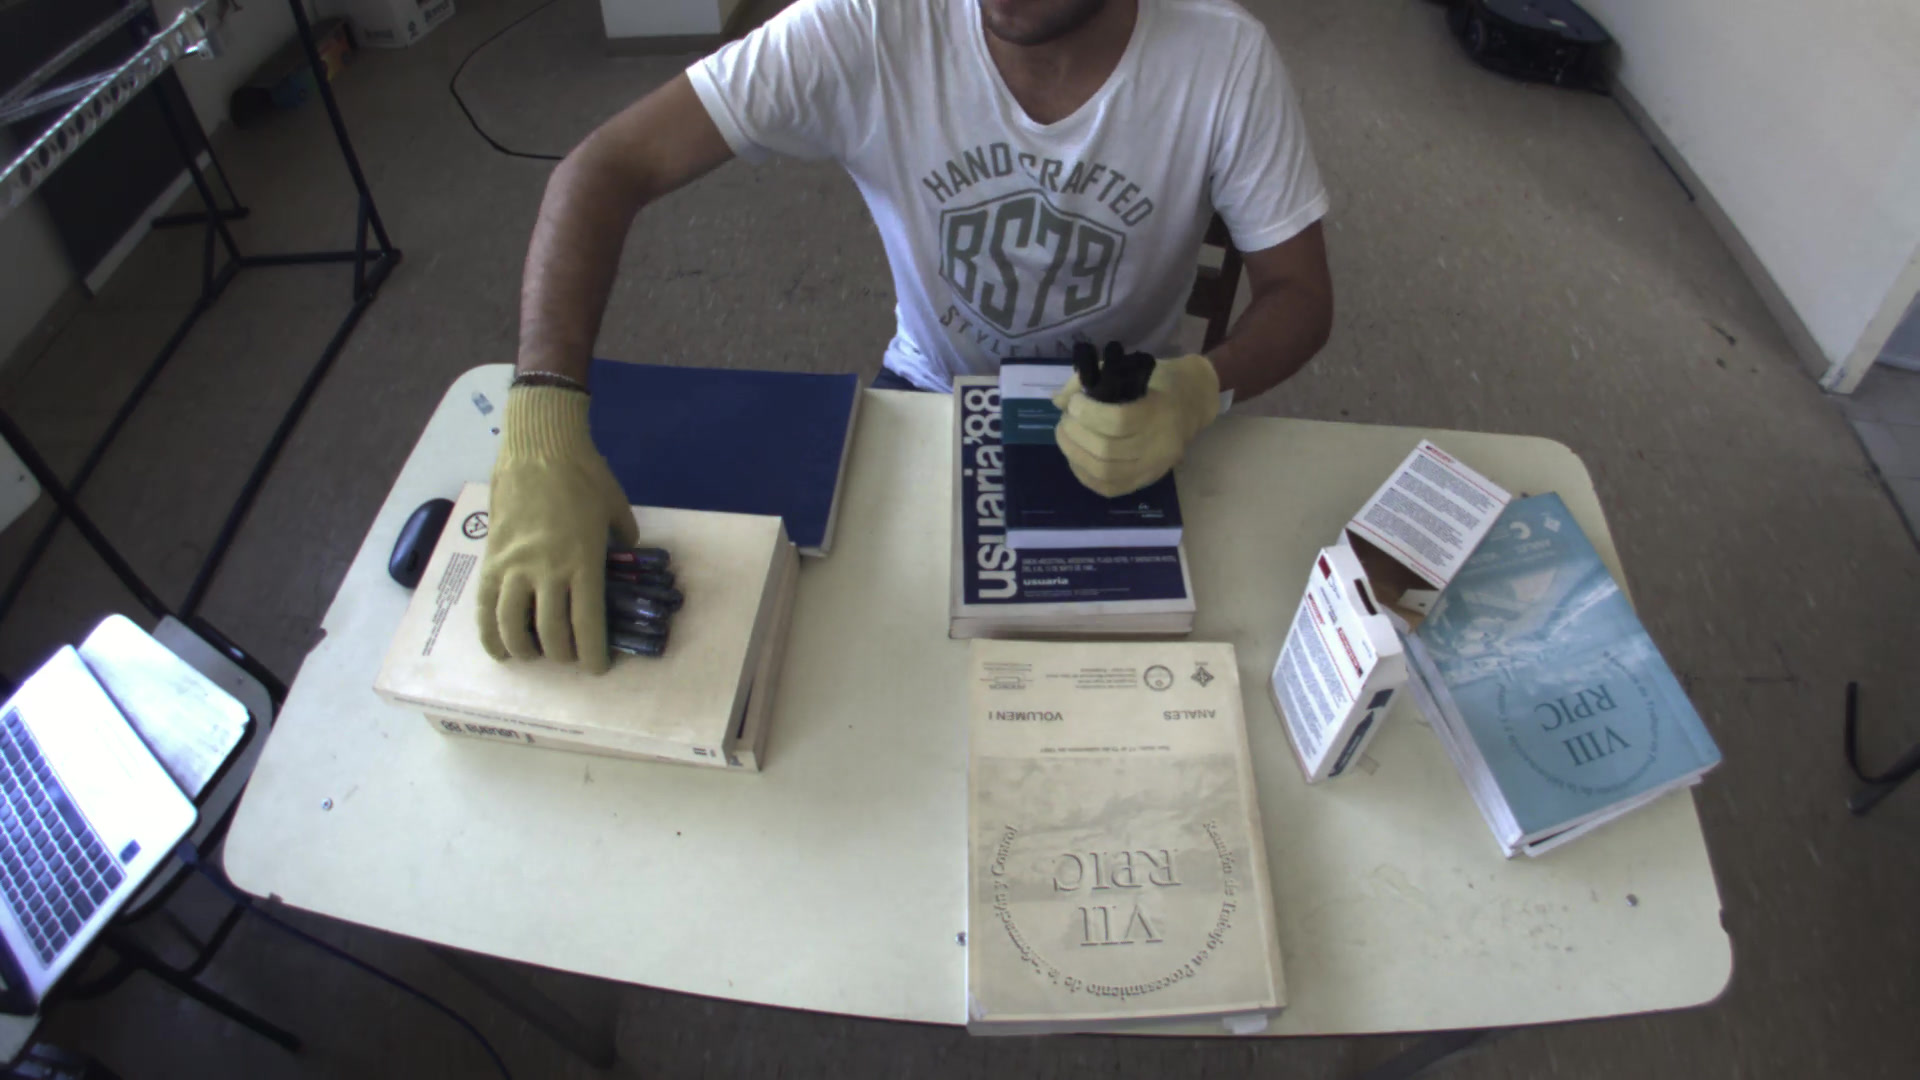hand: (464, 357, 638, 673), (1035, 336, 1238, 502)
